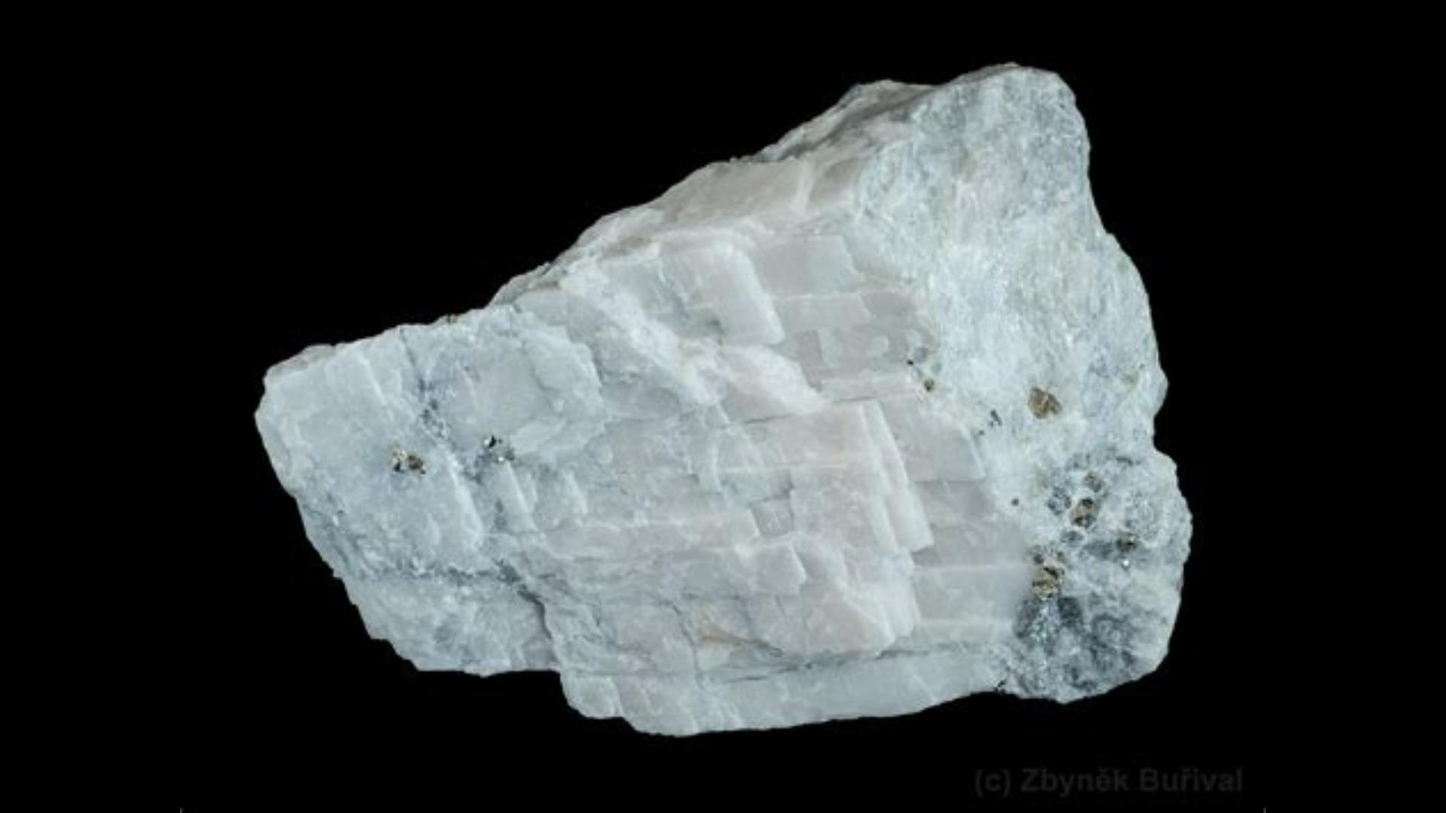rock: (265, 66, 1188, 731)
